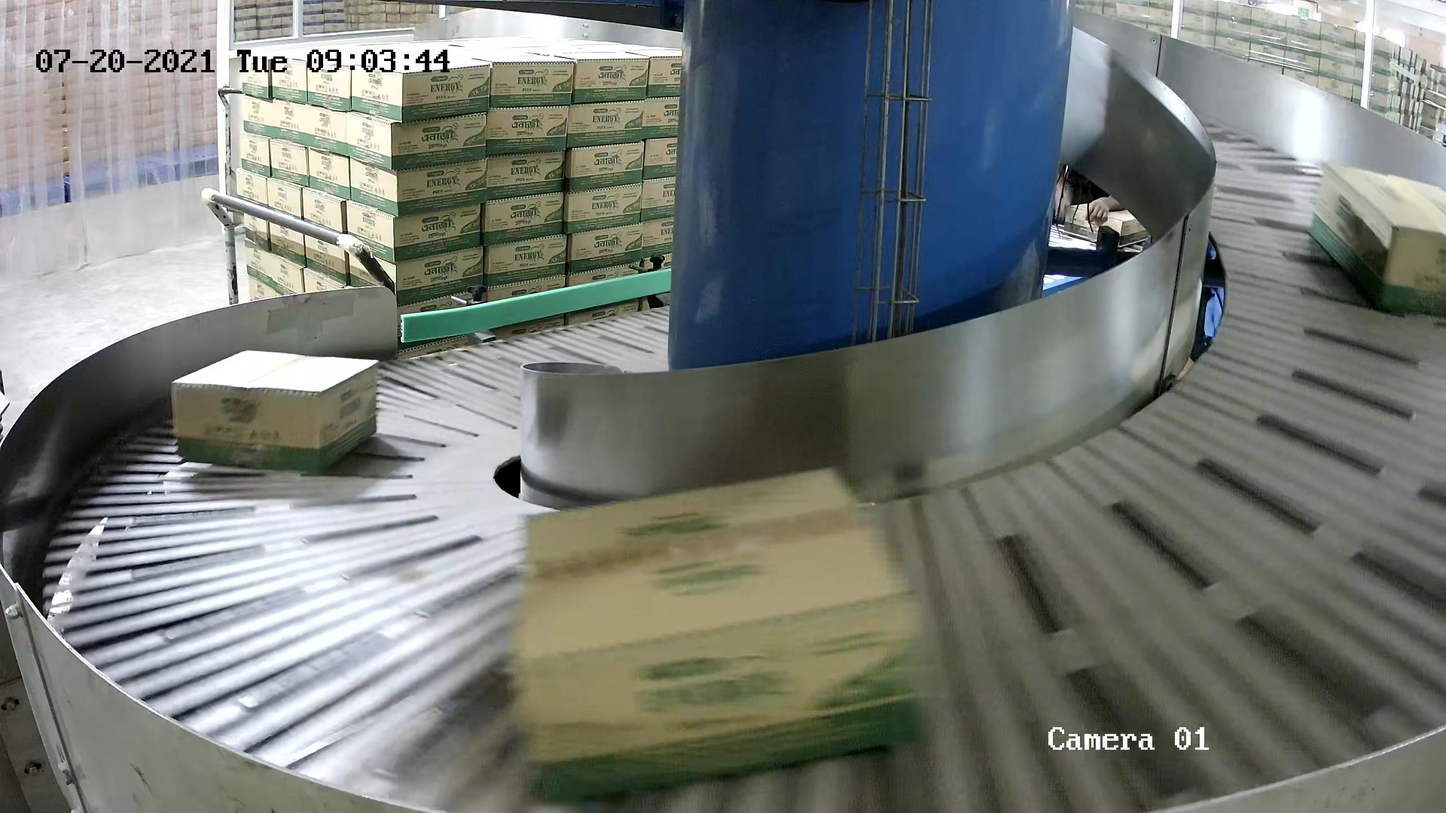Box: (516, 467, 926, 807), (170, 349, 380, 472), (1307, 160, 1446, 325)
